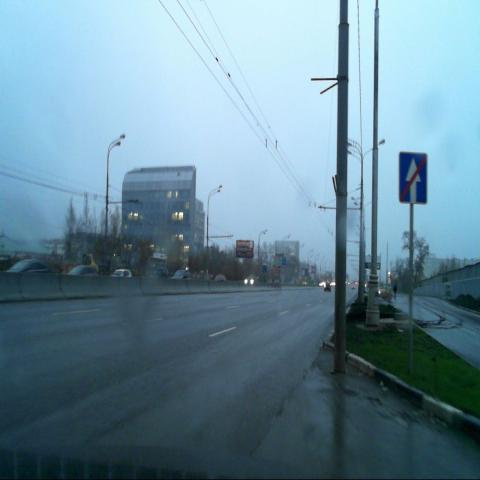5_6: (400, 152, 428, 204)
